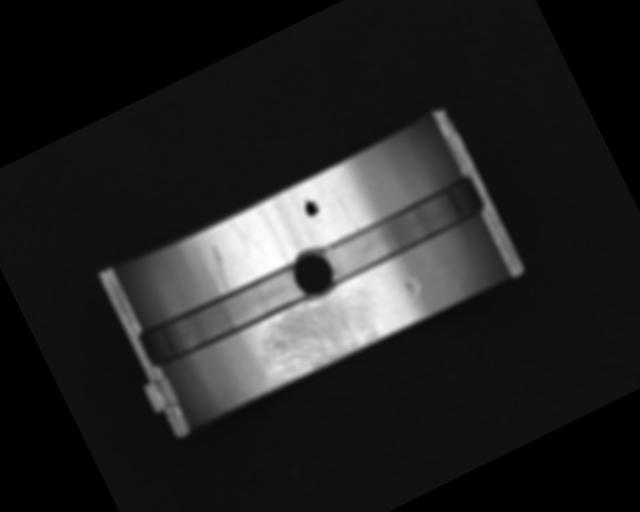blot: (298, 192, 322, 219)
bruise: (403, 277, 424, 300)
gap: (135, 261, 306, 373), (316, 174, 486, 285)
hole: (283, 240, 342, 305)
nick: (197, 242, 237, 294), (331, 187, 359, 233)
scratch: (243, 274, 392, 391)
